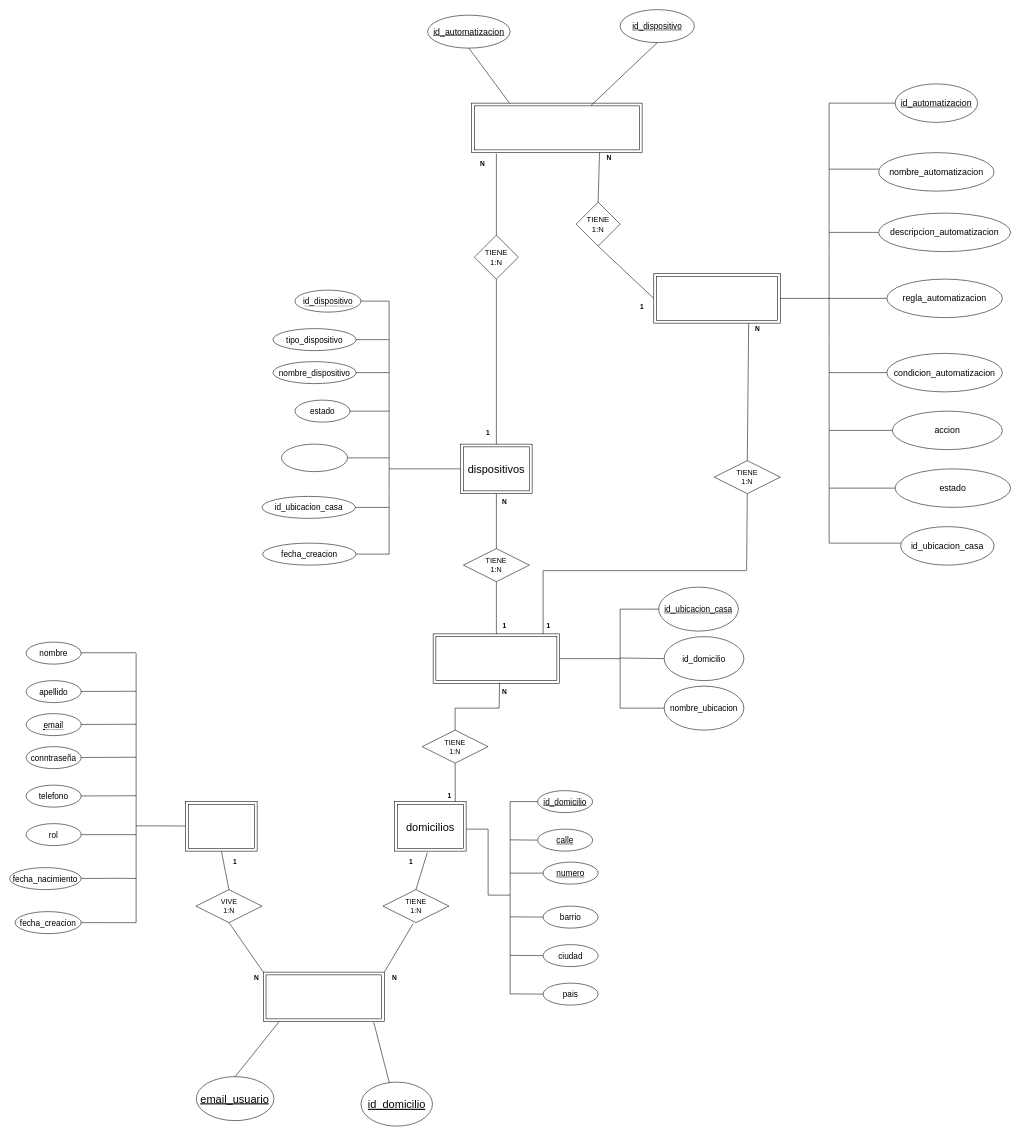
This 1020x1136 diagram has some shape labels left out. The shapes that lost their labels are listed below. From the top down, each one's centre as x and y in pixels, then its label:
At (x=556, y=128): "automatizaciones_dispositivos".
At (x=716, y=298): "automatizaciones".
At (x=314, y=458): "descripcion".
At (x=496, y=658): "ubicaciones_casa".
At (x=221, y=826): "usuarios".
At (x=323, y=997): "usuarios_domicilios".
